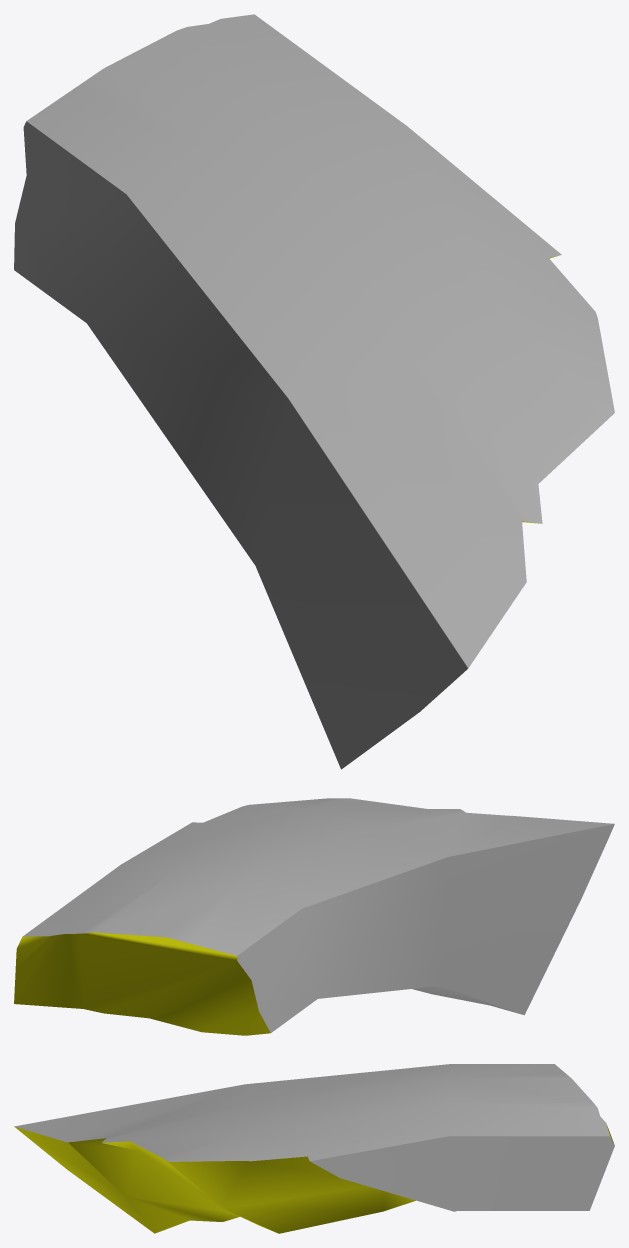
File: Bridge3.fbx
3 views of the same model, one above another, from view 1: azimuth 30°, elevation 25°; view 2: azimuth 150°, elevation 25°; view 3: azimuth 270°, elevation 25° (orthographic). The views are drawn at different scales.
Visible parts, largest first — view 1: shard5; view 2: shard5; view 3: shard5.
Part boxes in pixels (x1=…): shard5: x1=14, y1=14, x2=614, y2=769; shard5: x1=14, y1=798, x2=614, y2=1035; shard5: x1=14, y1=1064, x2=614, y2=1233.
Bounding box in the file's own units: 112 × 103 × 287.
